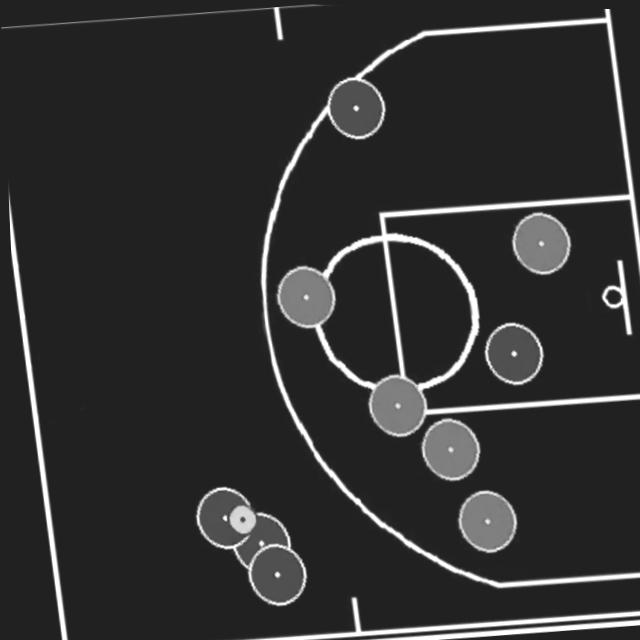Basketball: (221, 502, 253, 535)
Team_A: (185, 483, 251, 551), (477, 317, 542, 385), (223, 509, 288, 577), (321, 73, 386, 140), (240, 539, 304, 607)
Team_B: (448, 487, 514, 554), (269, 262, 334, 330), (506, 208, 571, 276), (412, 414, 477, 481), (360, 371, 425, 437)
